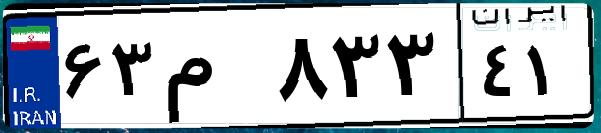1: (525, 38, 570, 115)
3: (385, 28, 445, 110), (330, 28, 385, 110), (110, 28, 158, 98)
4: (475, 38, 525, 113)
6: (57, 26, 110, 100)
8: (270, 28, 330, 110)
م: (158, 20, 270, 120)
